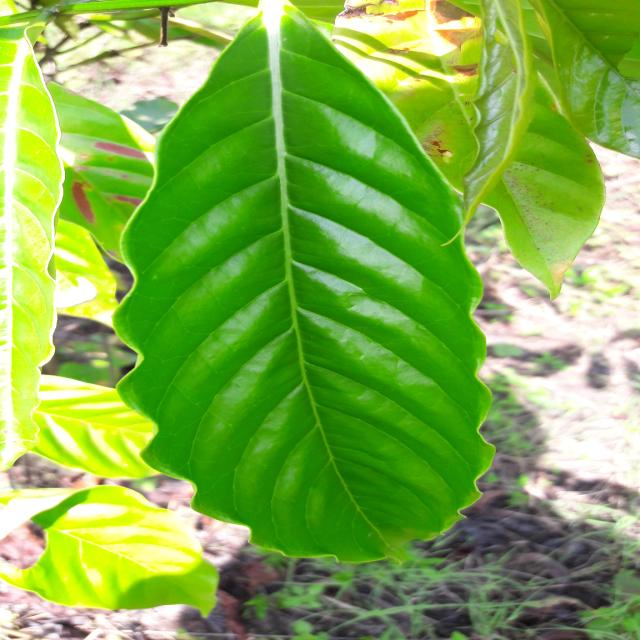Sanas: (111, 0, 496, 565)
